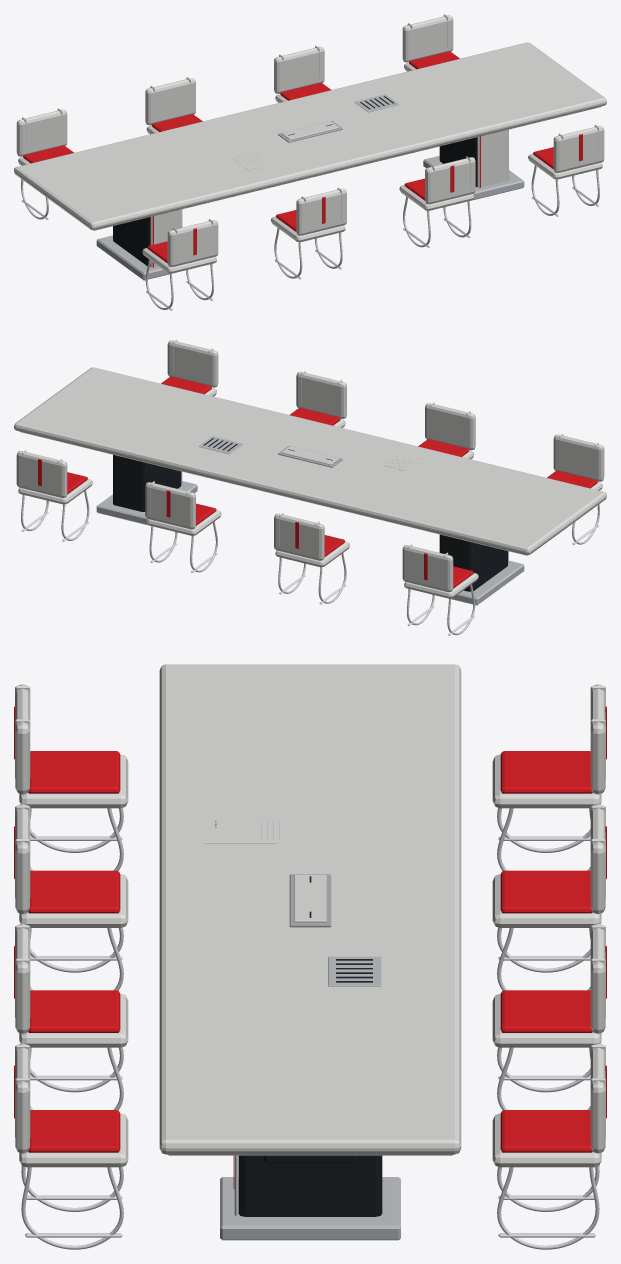
File: meeting-set.glb
The picture shows the model from 3 angles, top to bottom: view 1: azimuth 30°, elevation 25°; view 2: azimuth 150°, elevation 25°; view 3: azimuth 270°, elevation 25°; orthographic projection. The views are drawn at different scales.
Parts seen in each view (by area): view 1: white meeting tabletop, chair 1 0 back shell, chair 1 3 back shell, chair 1 2 back shell, chair 1 1 back shell, chair -1 0 back shell, chair -1 1 back shell, chair -1 2 back shell, chair -1 3 back shell, pedestal white outer panel.001, technical graphite pedestal, pedestal weighted steel foot (+15 smaller); view 2: white meeting tabletop, technical graphite pedestal.001, technical graphite pedestal, chair -1 0 back shell, chair -1 3 back shell, chair -1 2 back shell, chair -1 1 back shell, chair 1 0 back shell, chair 1 1 back shell, chair 1 2 back shell, chair 1 3 back shell, pedestal weighted steel foot (+13 smaller); view 3: white meeting tabletop, technical graphite pedestal.001, pedestal weighted steel foot.001, chair 1 1 red cushion, chair -1 1 red cushion, chair 1 0 red cushion, chair 1 3 red cushion, chair -1 0 red cushion, chair -1 3 red cushion, chair 1 2 red cushion, chair -1 2 red cushion, chair 1 3 white seat shell (+21 smaller).
Boxes of the visible parts, x1=… form: white meeting tabletop: x1=14, y1=42, x2=606, y2=230; chair 1 0 back shell: x1=16, y1=109, x2=67, y2=156; chair 1 3 back shell: x1=402, y1=15, x2=453, y2=62; chair 1 2 back shell: x1=274, y1=46, x2=324, y2=93; chair 1 1 back shell: x1=145, y1=78, x2=195, y2=125; chair -1 0 back shell: x1=167, y1=220, x2=218, y2=267; chair -1 1 back shell: x1=296, y1=188, x2=346, y2=235; chair -1 2 back shell: x1=425, y1=157, x2=475, y2=204; chair -1 3 back shell: x1=553, y1=126, x2=604, y2=172; pedestal white outer panel.001: x1=477, y1=129, x2=508, y2=187; technical graphite pedestal: x1=113, y1=217, x2=150, y2=266; pedestal weighted steel foot: x1=96, y1=235, x2=169, y2=280; white meeting tabletop: x1=14, y1=367, x2=606, y2=555; technical graphite pedestal.001: x1=113, y1=455, x2=181, y2=511; technical graphite pedestal: x1=439, y1=534, x2=507, y2=591; chair -1 0 back shell: x1=553, y1=434, x2=604, y2=481; chair -1 3 back shell: x1=167, y1=340, x2=218, y2=387; chair -1 2 back shell: x1=296, y1=371, x2=346, y2=418; chair -1 1 back shell: x1=425, y1=403, x2=475, y2=450; chair 1 0 back shell: x1=402, y1=545, x2=453, y2=592; chair 1 1 back shell: x1=274, y1=513, x2=324, y2=560; chair 1 2 back shell: x1=145, y1=482, x2=195, y2=529; chair 1 3 back shell: x1=16, y1=451, x2=67, y2=497; pedestal weighted steel foot: x1=451, y1=560, x2=524, y2=605; white meeting tabletop: x1=159, y1=664, x2=461, y2=1154; technical graphite pedestal.001: x1=238, y1=1155, x2=382, y2=1216; pedestal weighted steel foot.001: x1=220, y1=1177, x2=400, y2=1240; chair 1 1 red cushion: x1=500, y1=870, x2=592, y2=913; chair -1 1 red cushion: x1=28, y1=870, x2=120, y2=913; chair 1 0 red cushion: x1=500, y1=751, x2=592, y2=793; chair 1 3 red cushion: x1=500, y1=1110, x2=592, y2=1152; chair -1 0 red cushion: x1=28, y1=751, x2=120, y2=793; chair -1 3 red cushion: x1=28, y1=1110, x2=120, y2=1152; chair 1 2 red cushion: x1=500, y1=990, x2=592, y2=1032; chair -1 2 red cushion: x1=28, y1=990, x2=120, y2=1032; chair 1 3 white seat shell: x1=492, y1=1113, x2=601, y2=1167.
Size of the model in its own units: 4.9 by 0.865 by 2.56.
